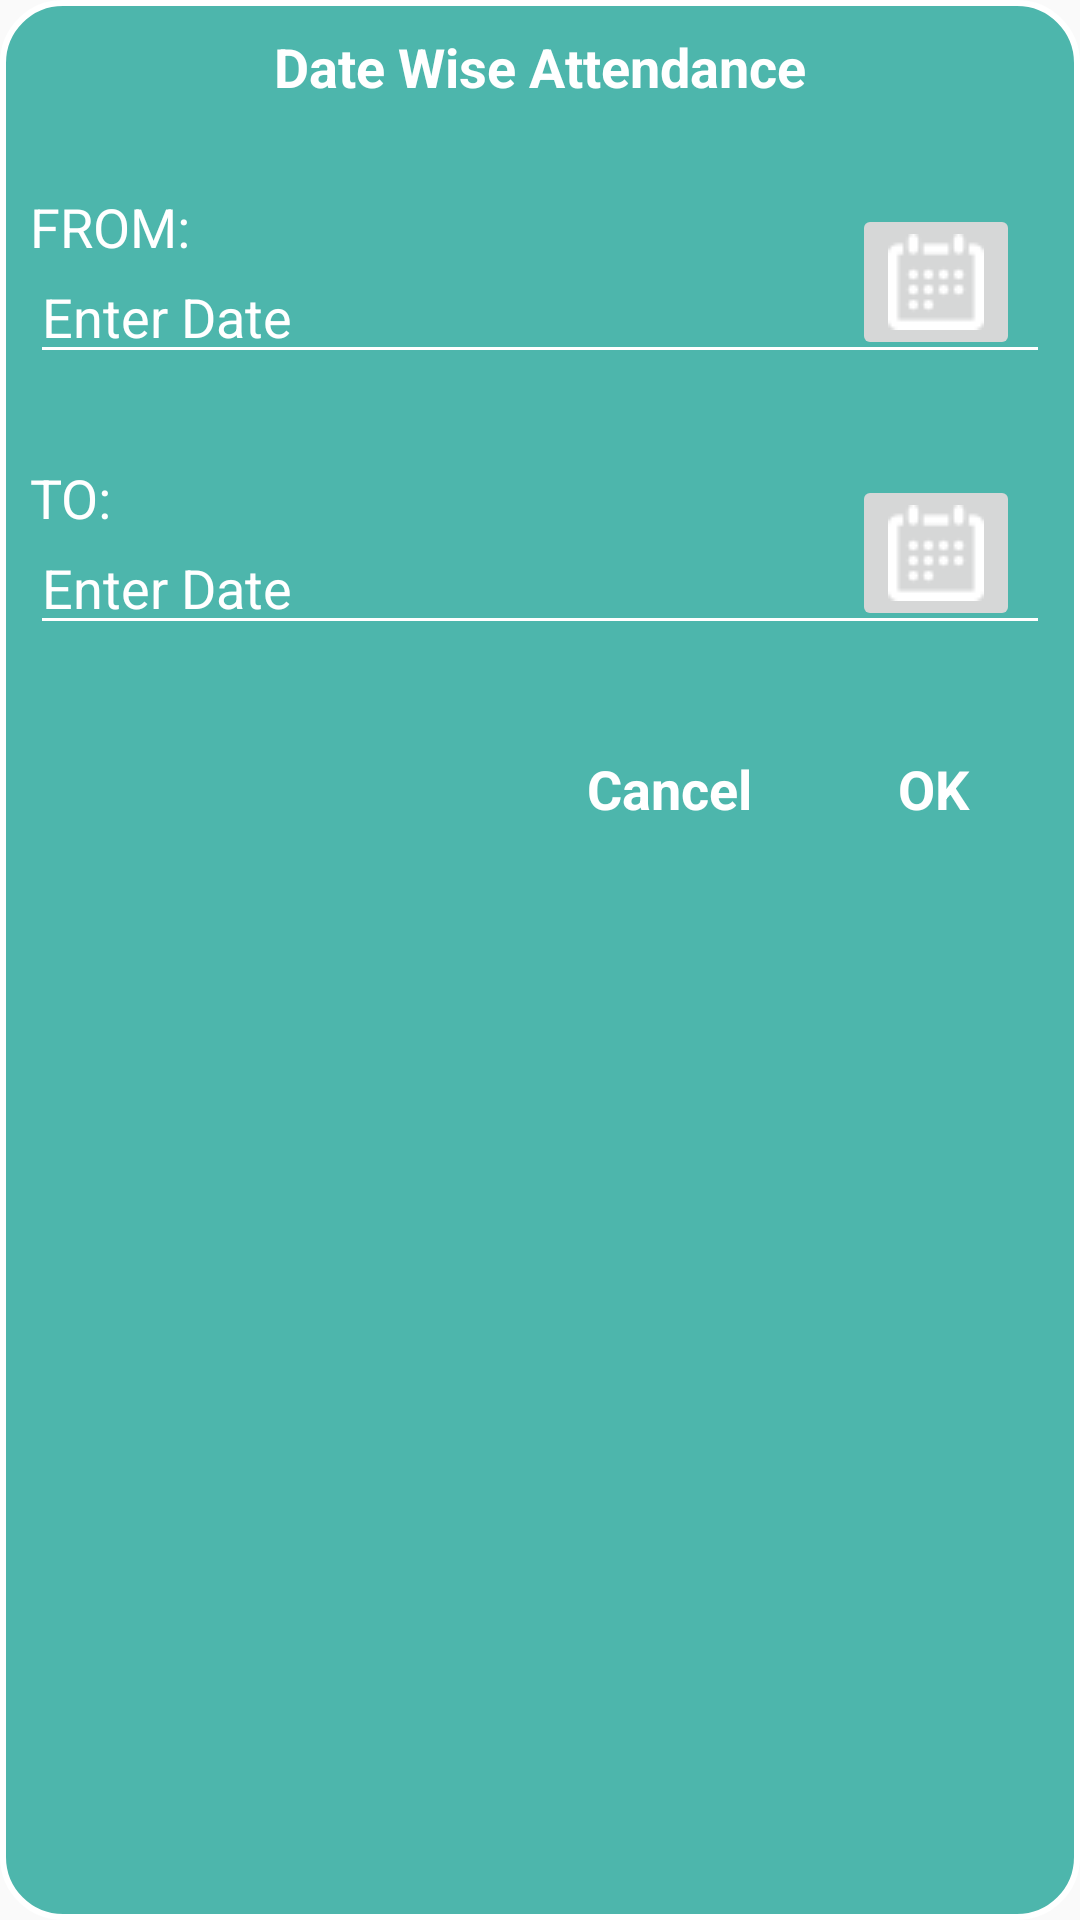

Icons on this 1080*1920 Android screen, each with its box as (x1, y1, x2, y2):
calendar: (864, 222, 1008, 342), (864, 493, 1008, 613)
